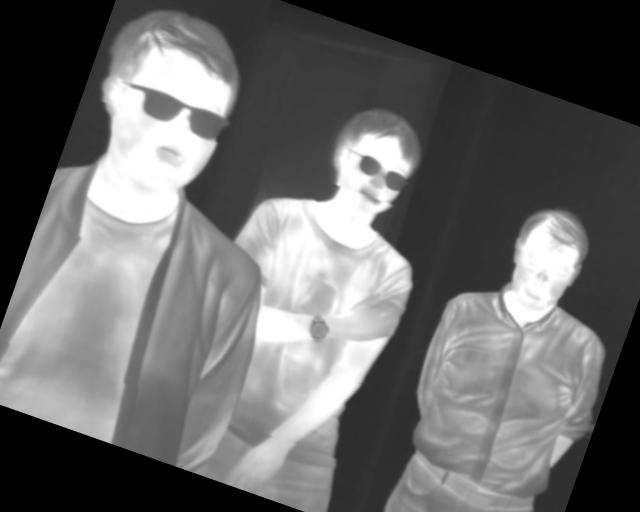face: (71, 1, 263, 210), (315, 94, 434, 228), (494, 197, 598, 321)
